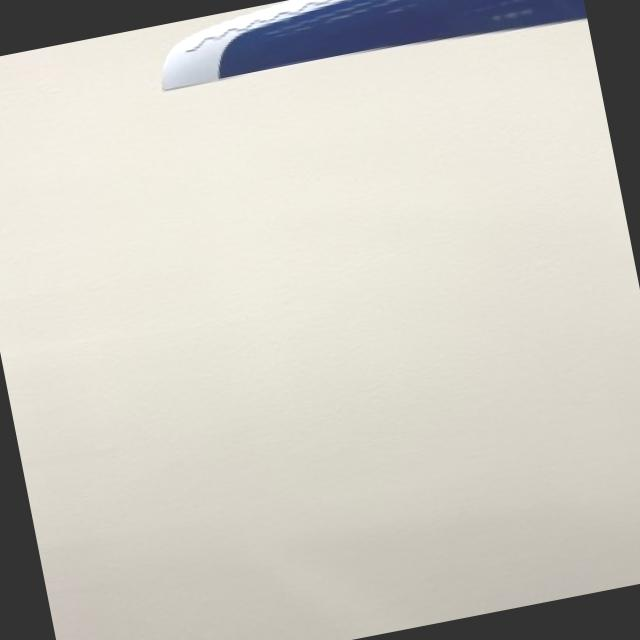healthy: (163, 0, 586, 88)
